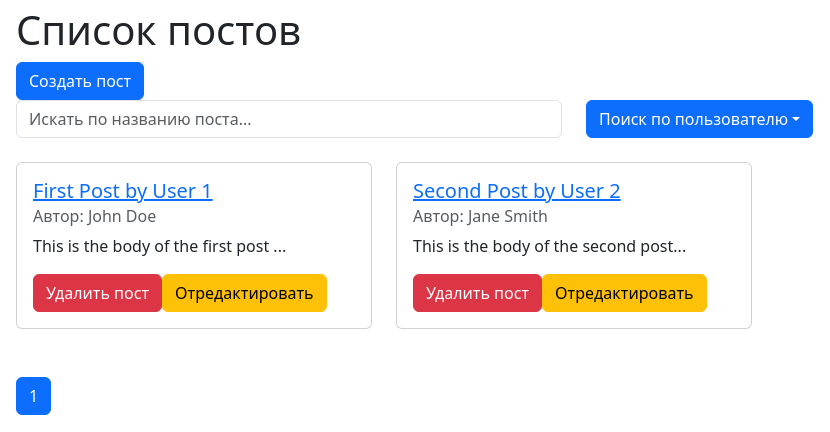
Test: MainContent › Фильтрация постов по заголовку поста
Type "First" into the field with placeholder "Искать по названию поста..." at (289,119), box x1=16 y1=100 x2=562 y2=138
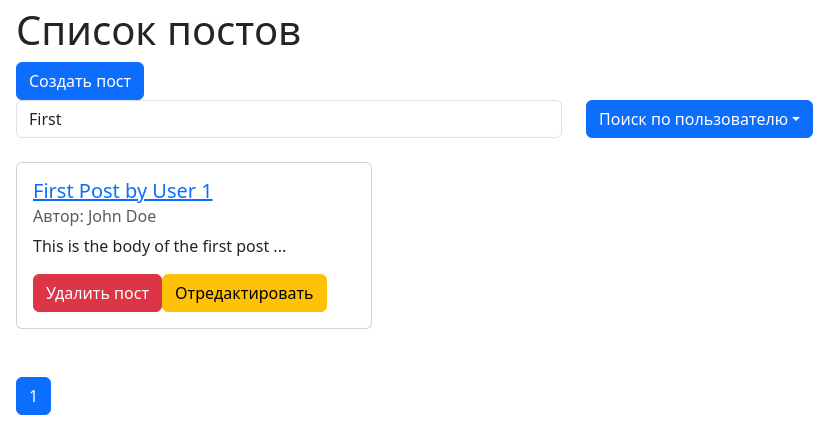
Expected: the link "First Post by User 1" is shown, x1=33 y1=177 x2=213 y2=204
Result: the link "Second Post by User 2" is gone
